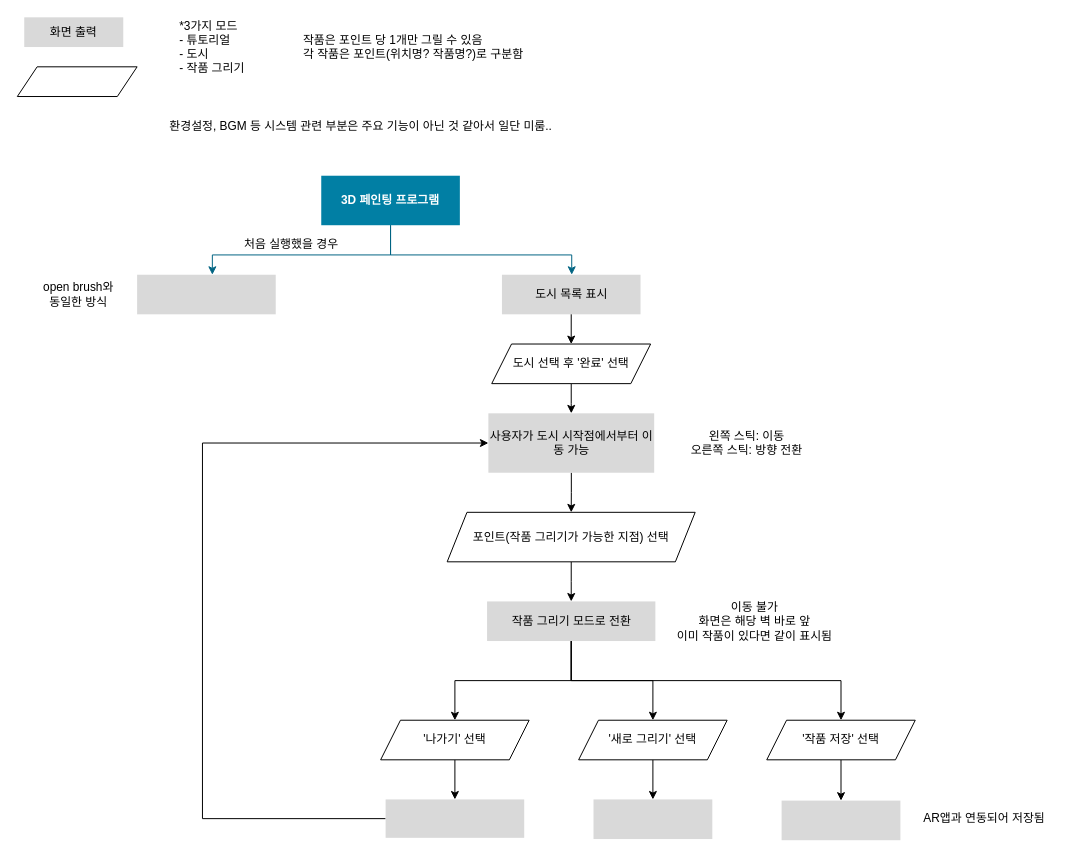
Image size: 1081x857. Some labels were removed from this diagram. The shapes that lost their labels are listed below. From the top down, each one's centre as x and y in pixels, then its label:
point (76, 81): 사용자 행동
point (206, 294): 페인팅 튜토리얼
point (454, 818): 도시 모드로 전환
point (652, 819): 작품 삭제
point (840, 820): 작품 저장
